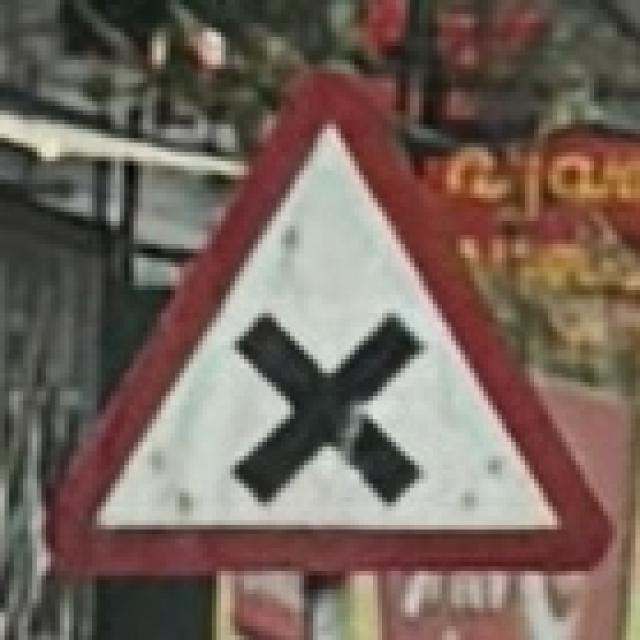CROSS_ROAD: (31, 54, 624, 583)
